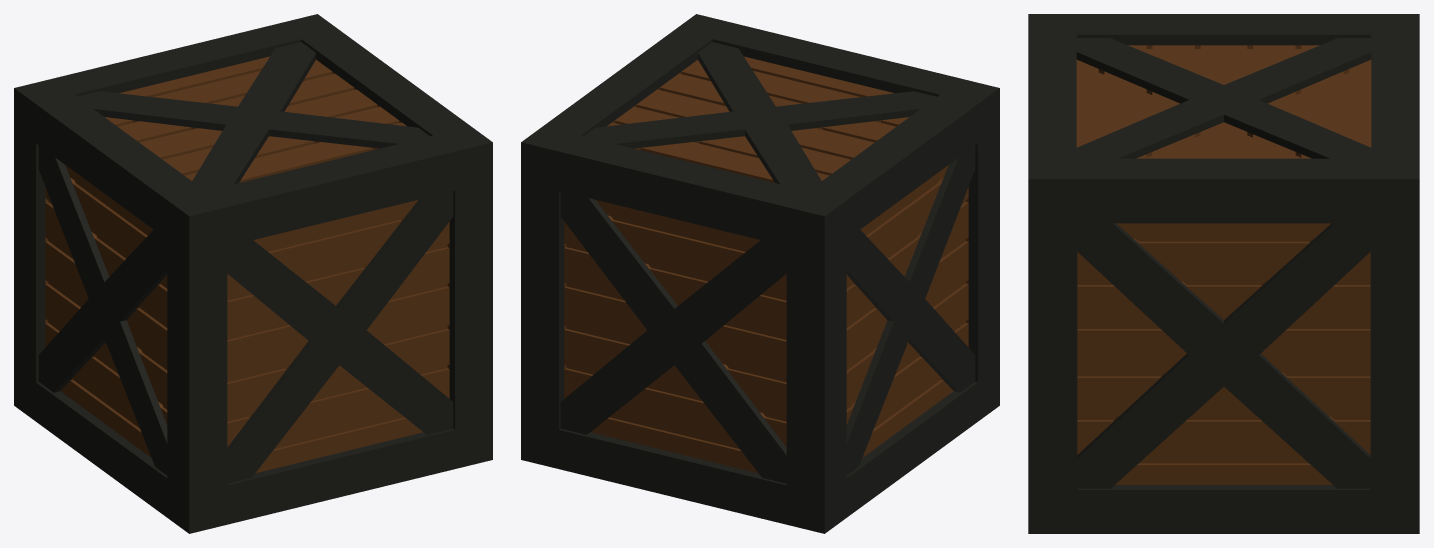
File: Light Crate 2.fbx
3 renders of one model, left to right at view 1: azimuth 30°, elevation 25°; view 2: azimuth 150°, elevation 25°; view 3: azimuth 270°, elevation 25°, orthographic. The views are drawn at different scales.
Parts seen in each view (by area): view 1: Light Crate 2; view 2: Light Crate 2; view 3: Light Crate 2.
Boxes of the visible parts, x1,y1,x2,y2 form: Light Crate 2: (14, 14, 492, 533); Light Crate 2: (521, 14, 999, 533); Light Crate 2: (1028, 14, 1419, 533).
Size of the model in its own units: 463 by 463 by 463.
